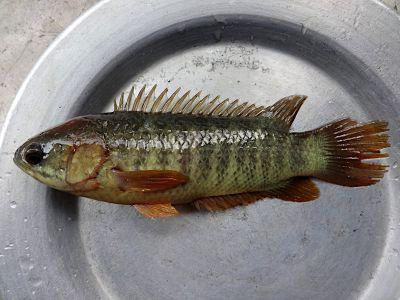Climbing Perch: (15, 82, 395, 222)
